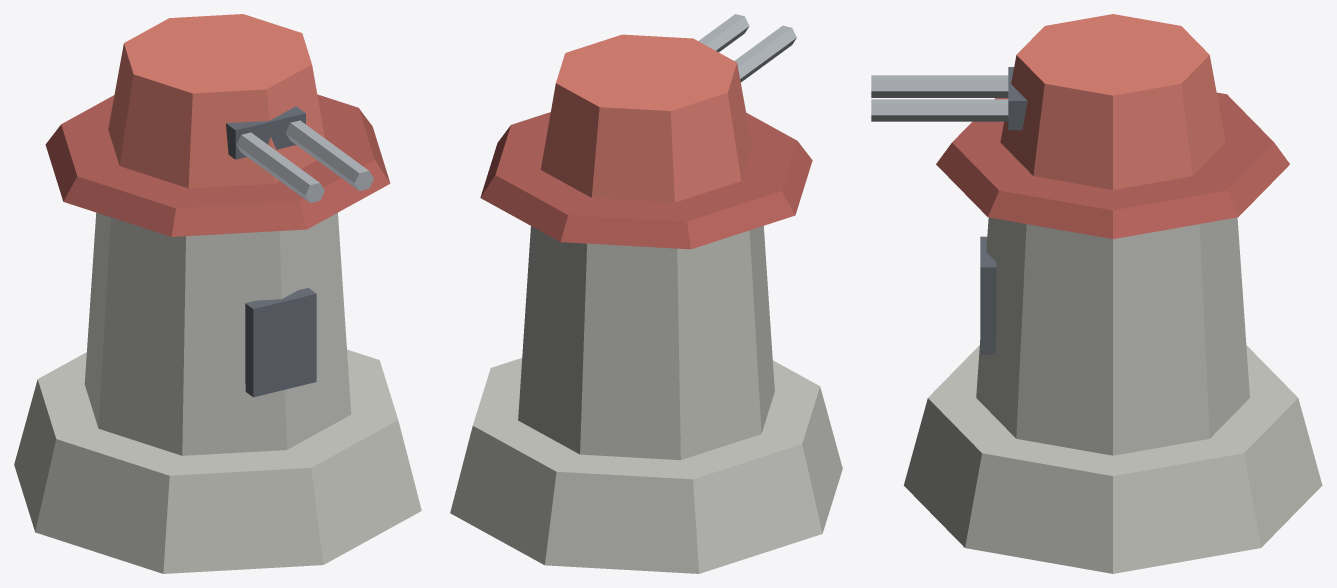
The model's file is tower.glb.
3 renders of one model, left to right at view 1: azimuth 30°, elevation 25°; view 2: azimuth 150°, elevation 25°; view 3: azimuth 270°, elevation 25°, orthographic. The views are drawn at different scales.
Parts seen in each view (by area): view 1: tower, head; view 2: tower, head; view 3: tower, head.
Boxes of the visible parts, <box> form: tower: <box>14,94,421,573</box>; head: <box>108,14,373,202</box>; tower: <box>450,112,842,573</box>; head: <box>540,14,796,202</box>; tower: <box>903,92,1322,573</box>; head: <box>871,14,1225,189</box>.
Size of the model in its own units: 5.2 by 5.9 by 5.6.
